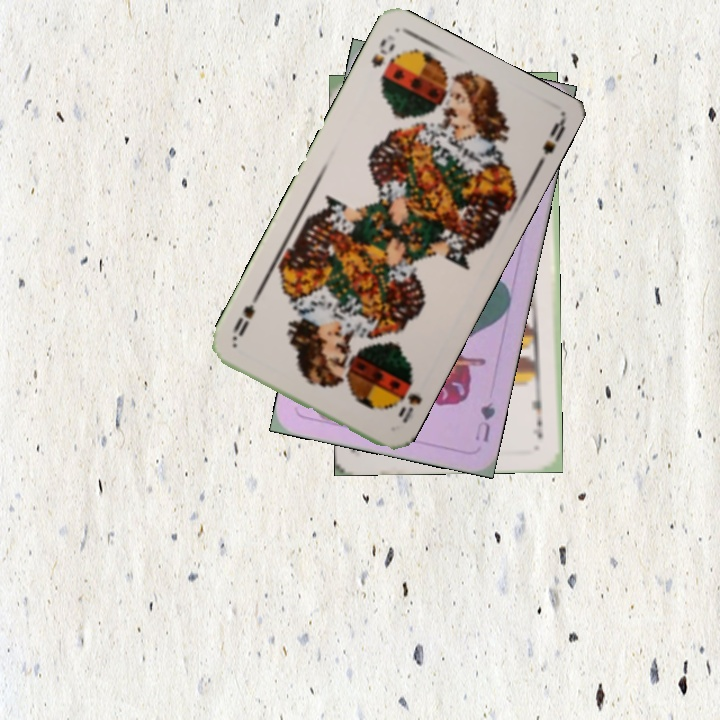E7: (528, 387, 545, 441)
GU: (471, 397, 498, 445)
SO: (394, 389, 425, 426), (367, 34, 398, 70)
